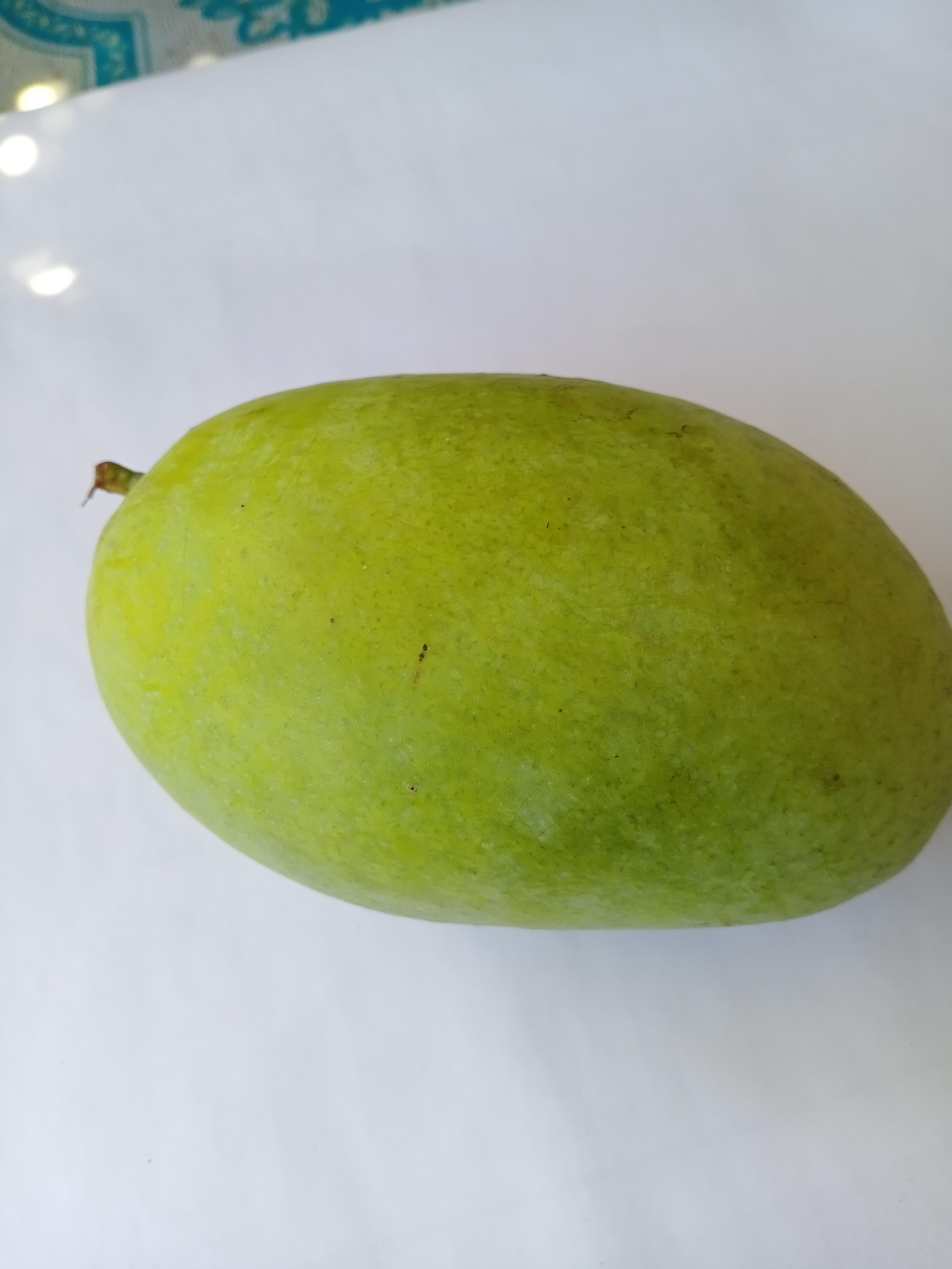Mango Unripe: (47, 339, 952, 961)
